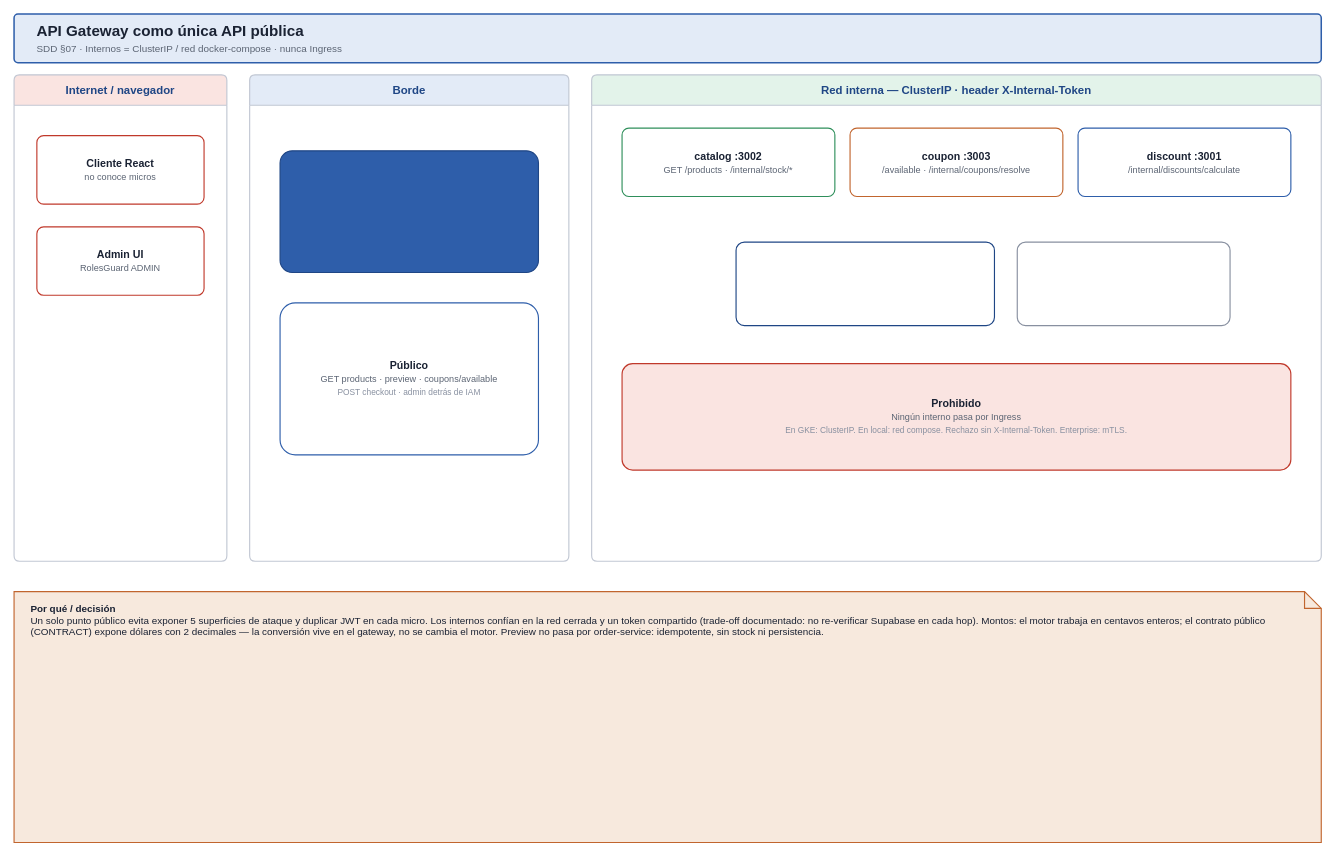
Image size: 1335x856. Some labels were removed from this diagram. The shapes that lost their labels are listed below. From the top down, each one's centre as x and y in pixels, then its label:
At point 409,211: "api-gateway :3000 /api/v1/* + /api/docs JWT + X-Internal-Token hacia adentro".
At point 865,283: "order :3004 POST /checkout (saga)".
At point 1123,283: "notification sin endpoint HTTP".
